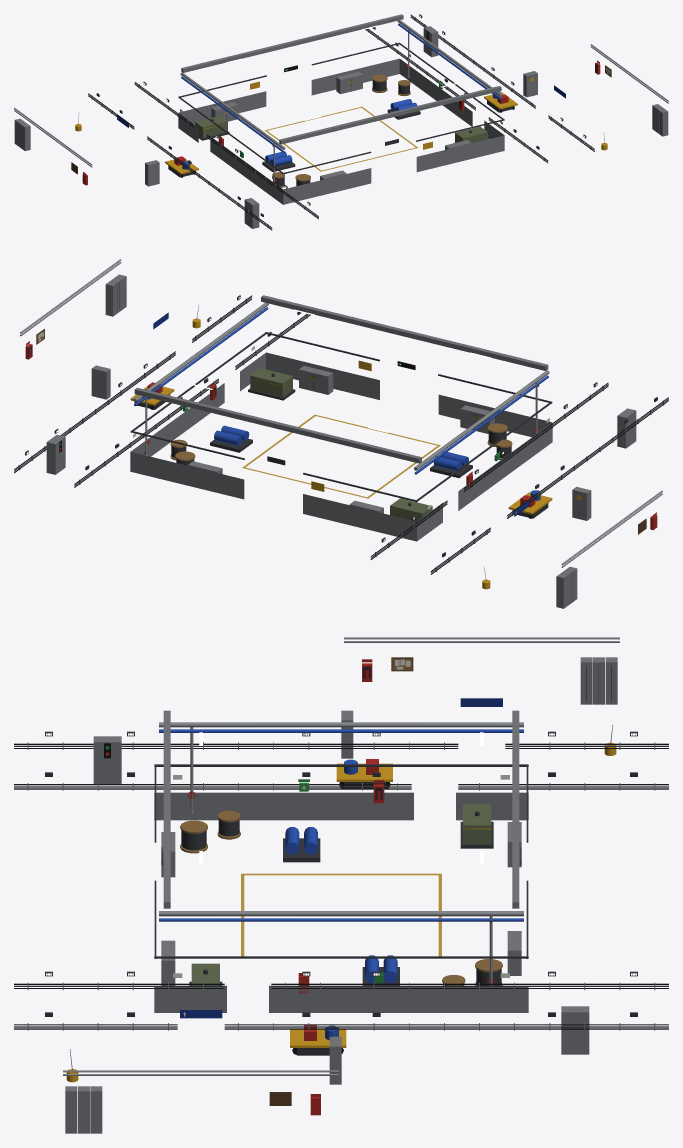
File: ug-plant.glb
The picture shows the model from 3 angles, top to bottom: view 1: azimuth 30°, elevation 25°; view 2: azimuth 150°, elevation 25°; view 3: azimuth 270°, elevation 25°; orthographic projection. The views are drawn at different scales.
Parts seen in each view (by area): view 1: ug-plant; view 2: ug-plant; view 3: ug-plant.
Boxes of the visible parts, x1,y1,x2,y2 form: ug-plant: [14, 14, 668, 230]; ug-plant: [14, 259, 668, 608]; ug-plant: [14, 637, 668, 1133].
Bounding box in the file's own units: 44 × 5.58 × 28.
